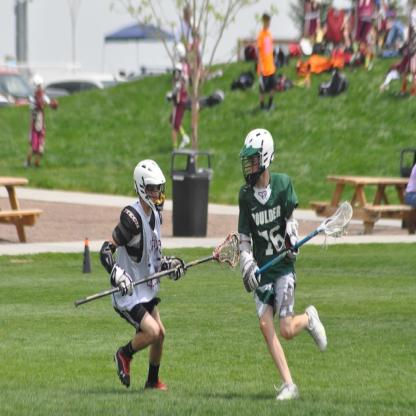Helmet: (237, 130, 278, 183), (132, 162, 164, 215), (31, 70, 42, 92)
